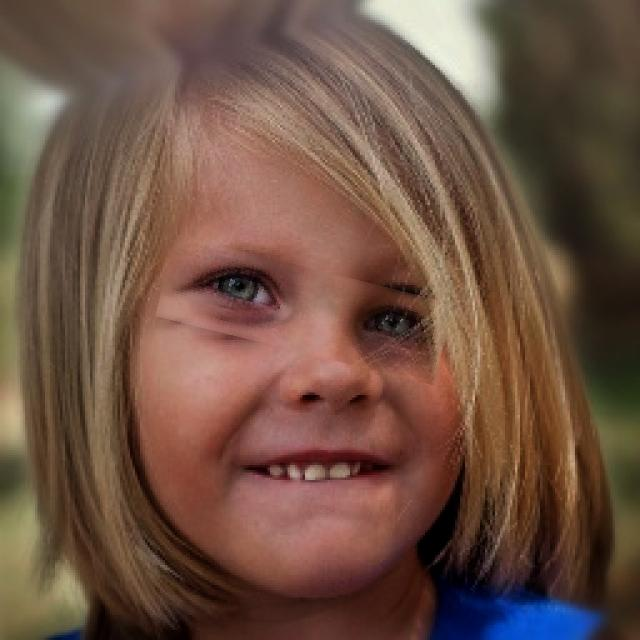no-glasses: (158, 251, 451, 369)
